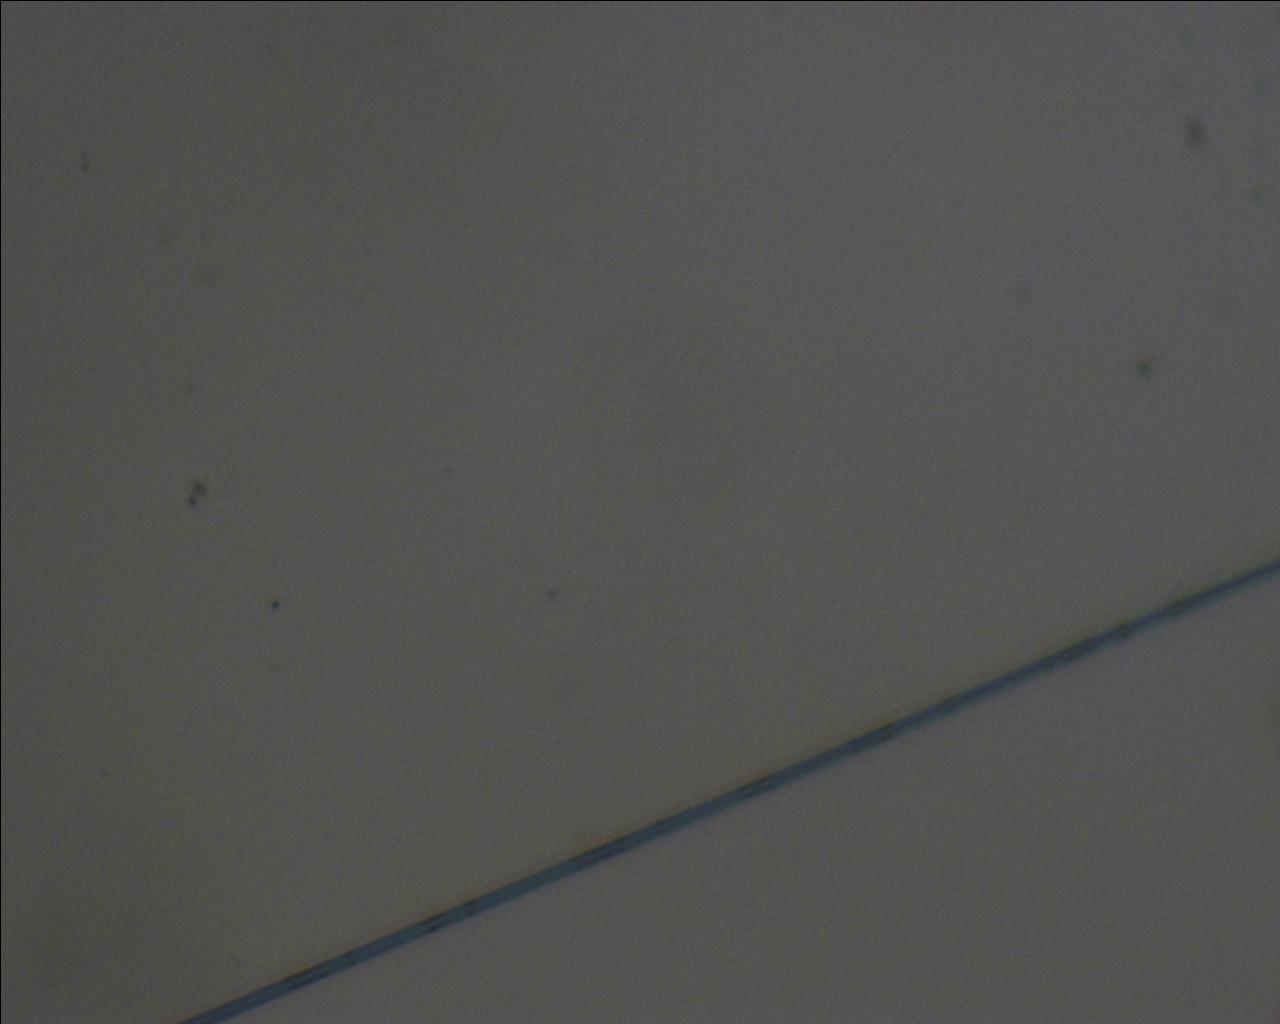fiber: (0, 819, 716, 1024), (716, 292, 1280, 432)
